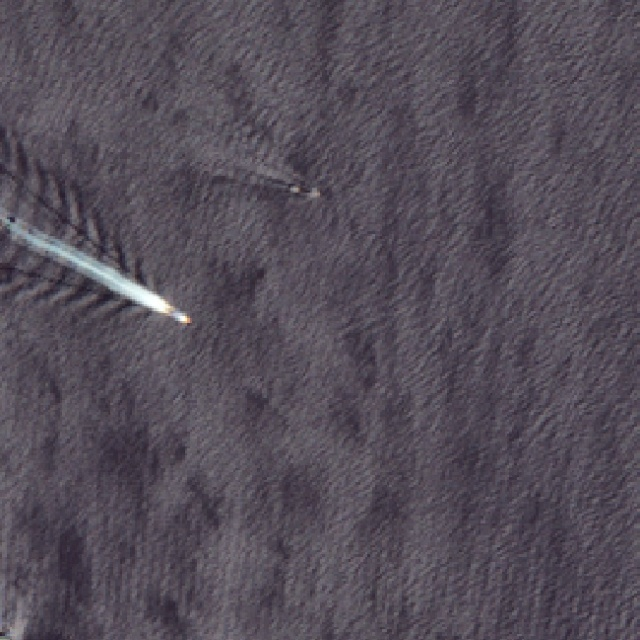wake: (10, 185, 222, 371)
